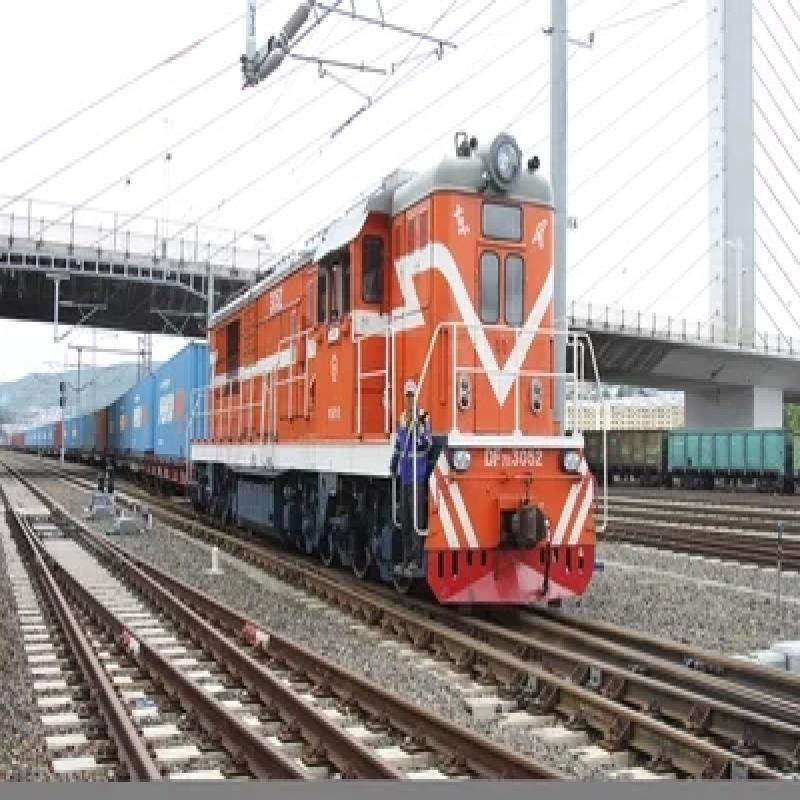train: (189, 116, 623, 612)
